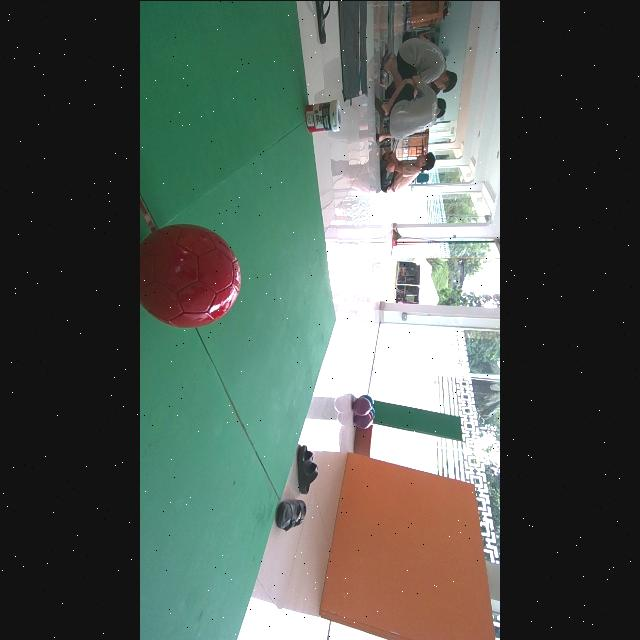P: (353, 396, 372, 415), (354, 414, 373, 428)
R: (140, 224, 240, 327)
